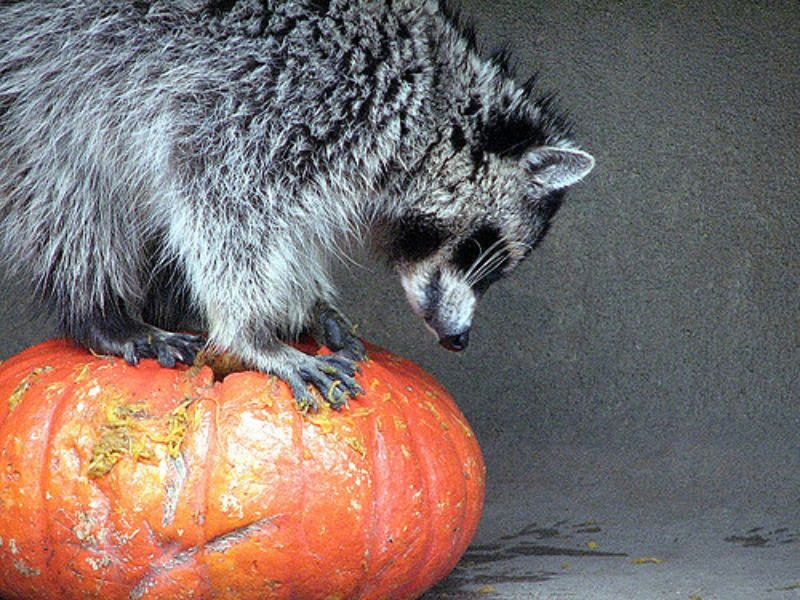raccoon: (1, 1, 598, 416)
